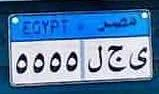5: (13, 51, 29, 76), (64, 49, 79, 75), (48, 50, 63, 74), (31, 53, 46, 76)
jeem: (106, 42, 127, 73)
laam: (86, 42, 103, 75)
yaa: (127, 44, 148, 71)
